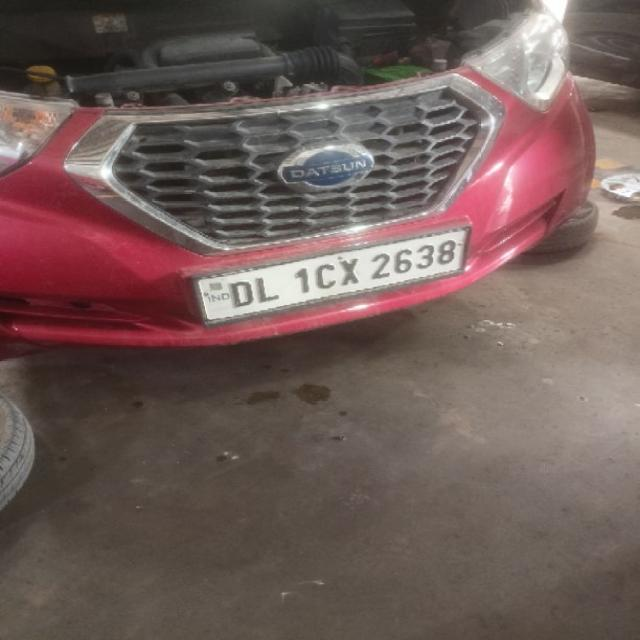license_plate: (189, 225, 471, 328)
